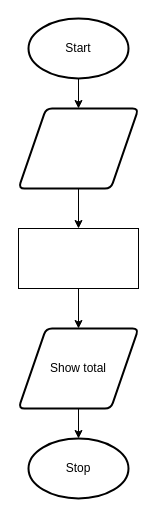
The diagram is 156 pixels wide and 516 high, and some of its shapes have lost their labels. Here are the shapes that lost their labels. From the top down, the centre of each, then its label:
pixel 78 148: Get Number
pixel 78 258: Calculation = 6a 3
